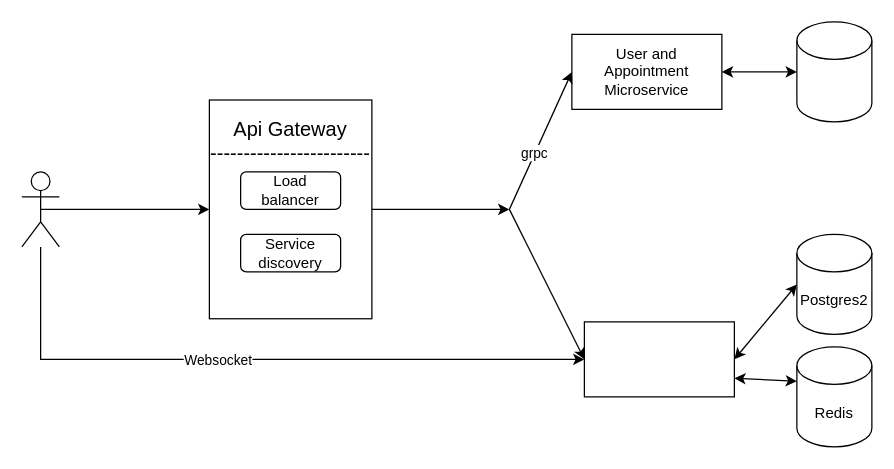
Image size: 894x469. Some labels were removed from this diagram. The shapes that lost their labels are listed below. From the top down, each one's centre as x and y in pixels, then its label:
At (x=834, y=71): "Postgres1".
At (x=40, y=209): "User".
At (x=658, y=359): "Communication Microservice".
